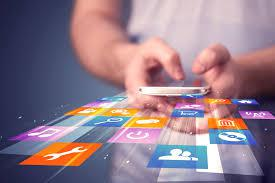Hand: (127, 38, 190, 115), (194, 45, 245, 123)
Smartphone: (142, 73, 208, 92)
